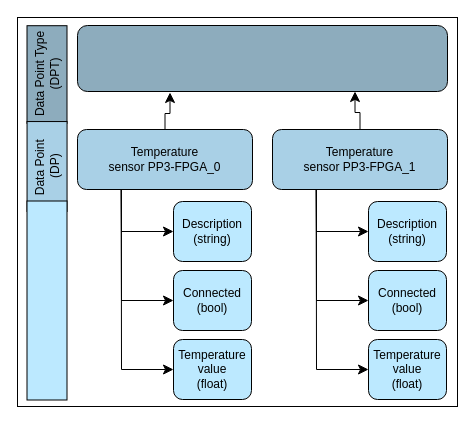
Image size: 475x424. Some labels were removed from this diagram. The box of each missing label's shape, as (x1, y1, x2, y2) in pixels:
Data Point Elememnts (DPE): (26, 200, 67, 400)
Temperature Sensor PP3-FPGA: (76, 24, 448, 92)
